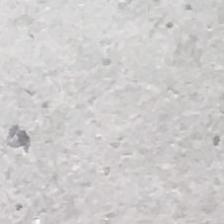Non_Crack: (28, 20, 224, 198)
